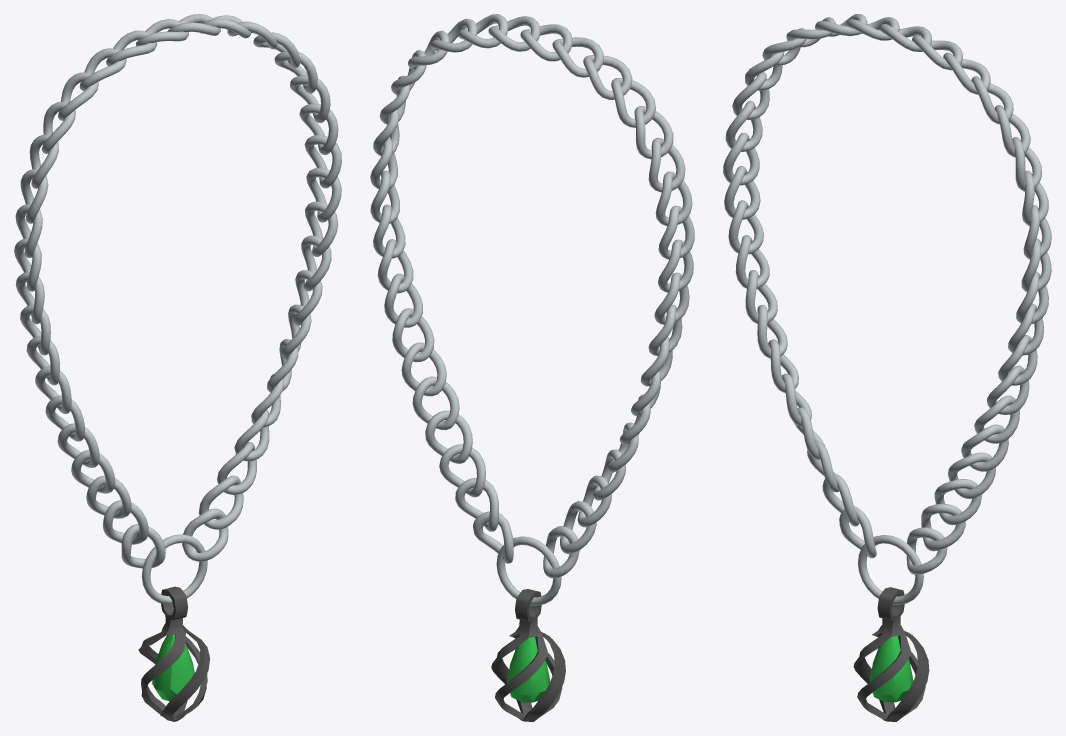
File: gemstone_necklace.glb
The picture shows the model from 3 angles, left to right: view 1: azimuth 30°, elevation 25°; view 2: azimuth 150°, elevation 25°; view 3: azimuth 330°, elevation 25°; orthographic projection.
Parts seen in each view (by area): view 1: chain_BezierCircle_2, GemCage_0, Gem_1; view 2: chain_BezierCircle_2, GemCage_0, Gem_1; view 3: chain_BezierCircle_2, GemCage_0, Gem_1.
Boxes of the visible parts, x1=… form: chain_BezierCircle_2: x1=14, y1=14, x2=341, y2=604; GemCage_0: x1=138, y1=586, x2=209, y2=721; Gem_1: x1=152, y1=635, x2=194, y2=701; chain_BezierCircle_2: x1=370, y1=14, x2=694, y2=605; GemCage_0: x1=491, y1=589, x2=565, y2=721; Gem_1: x1=507, y1=637, x2=550, y2=702; chain_BezierCircle_2: x1=723, y1=14, x2=1051, y2=604; GemCage_0: x1=853, y1=587, x2=929, y2=721; Gem_1: x1=869, y1=636, x2=913, y2=702.
Bounding box in the file's own units: 1.75 × 3.74 × 0.3947.
3 materials, 1 textured.
